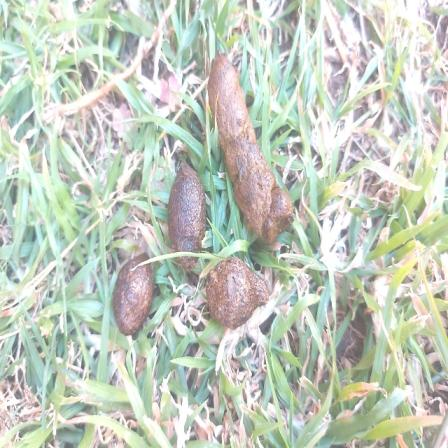dog-poop: (122, 175, 254, 339), (202, 48, 307, 230)
